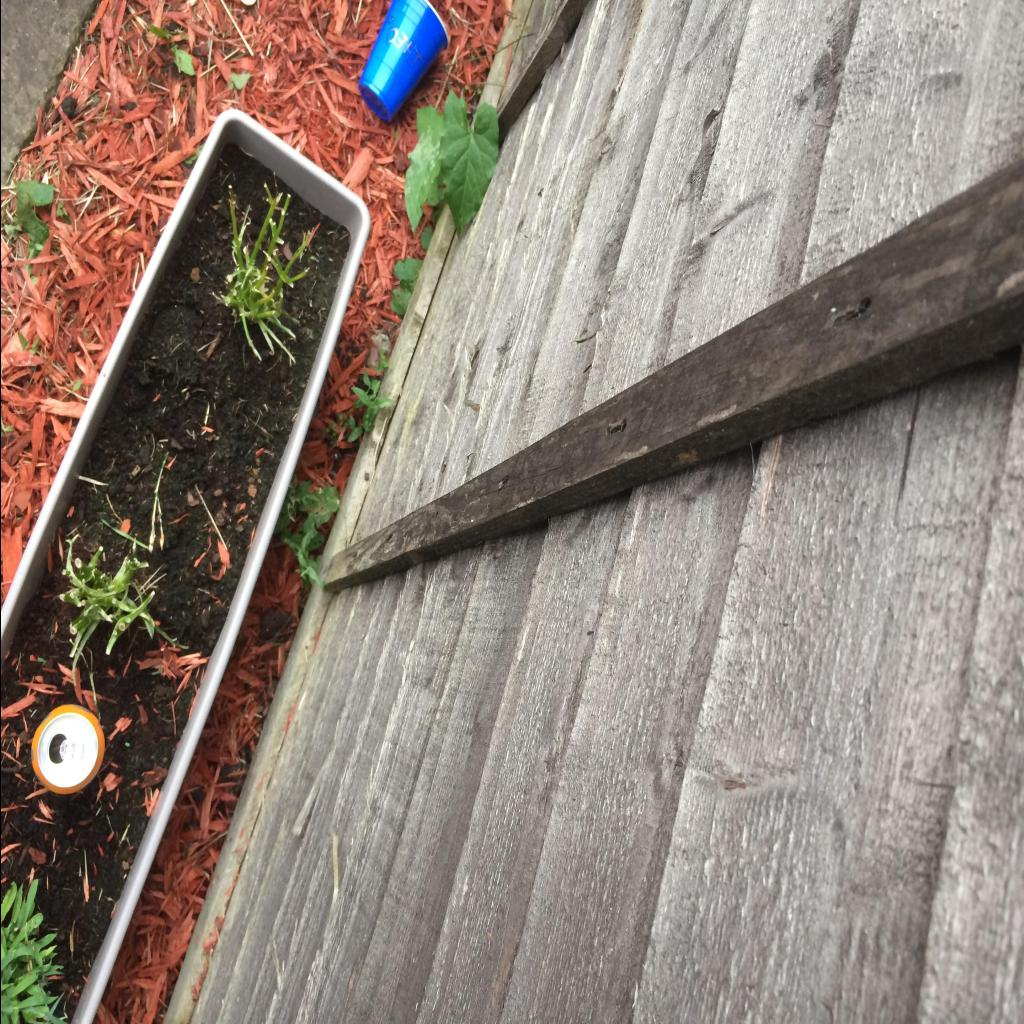Disposable plastic cup: (358, 2, 448, 121)
Drink can: (30, 704, 104, 794)
Pop tab: (58, 740, 82, 760)
